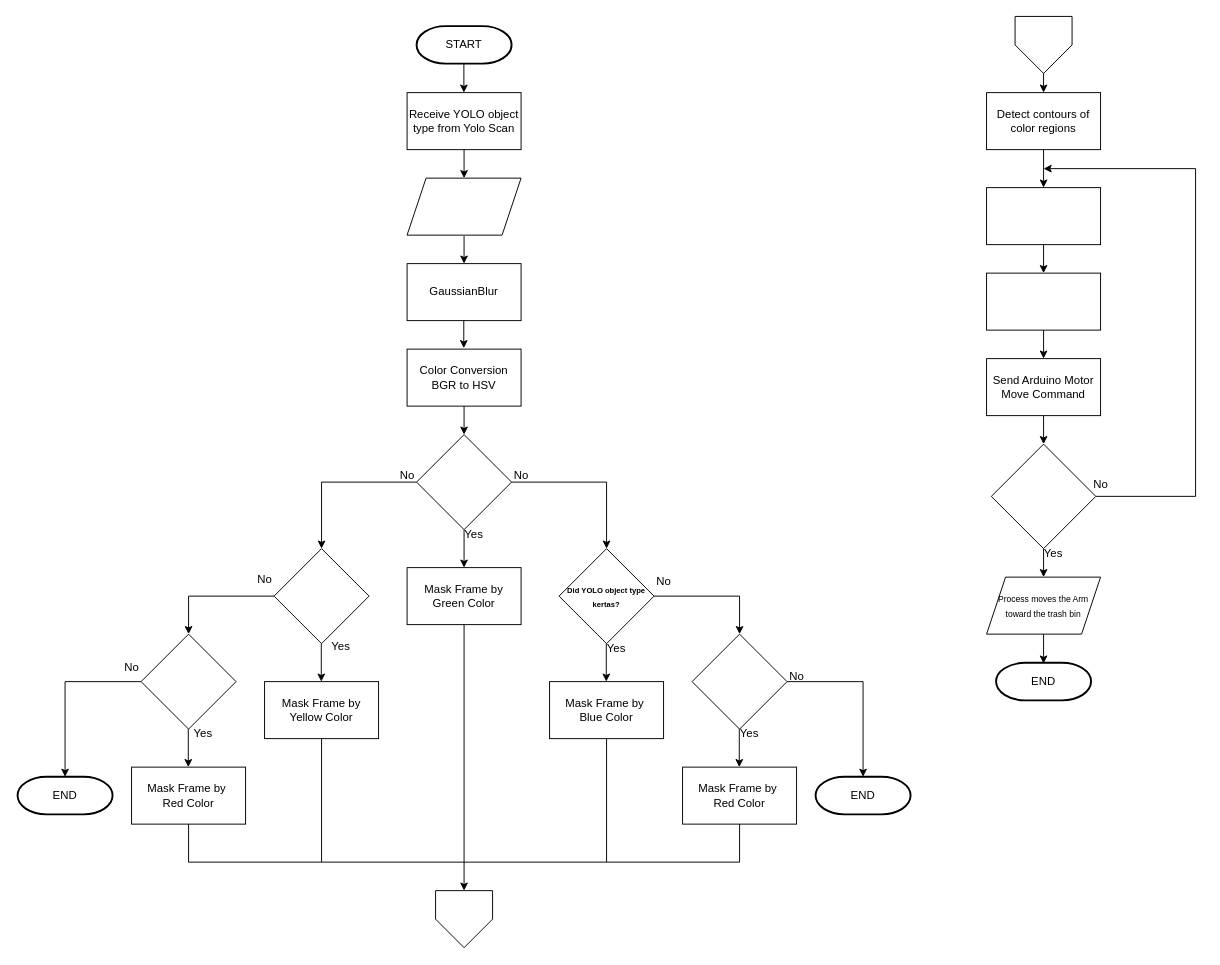
Image size: 1220x965. Some labels were removed from this diagram. The shapes that lost their labels are listed below. From the top down, each one's box as (x1, y1, x2, y2) in pixels, then its label:
(406, 177, 521, 235): Capture Webcam Video Feed
(986, 187, 1101, 245): Get object coordinates
(986, 272, 1101, 330): PID Process
(416, 434, 512, 530): Did YOLO object type daun?
(990, 443, 1096, 549): Has the robot reached the set point?
(273, 548, 369, 644): Did YOLO object type plastik?
(140, 633, 236, 729): Did YOLO object type logam?
(691, 633, 787, 729): Did YOLO object type logam non ferro?
